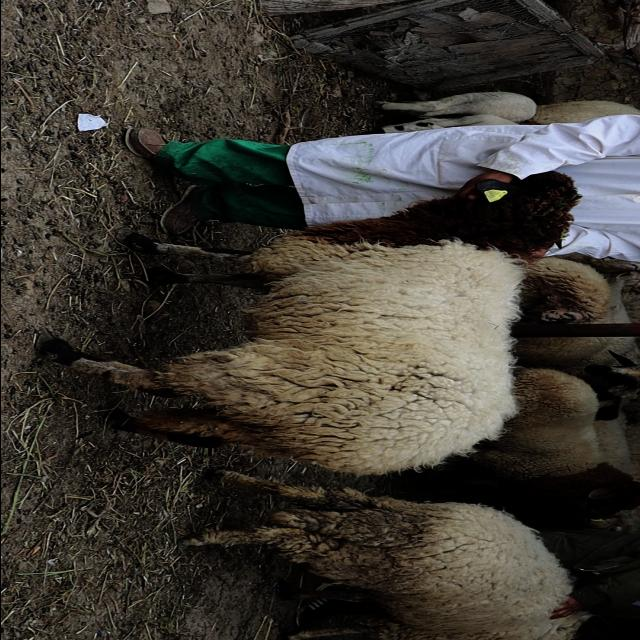Score_4: (36, 171, 580, 475)
